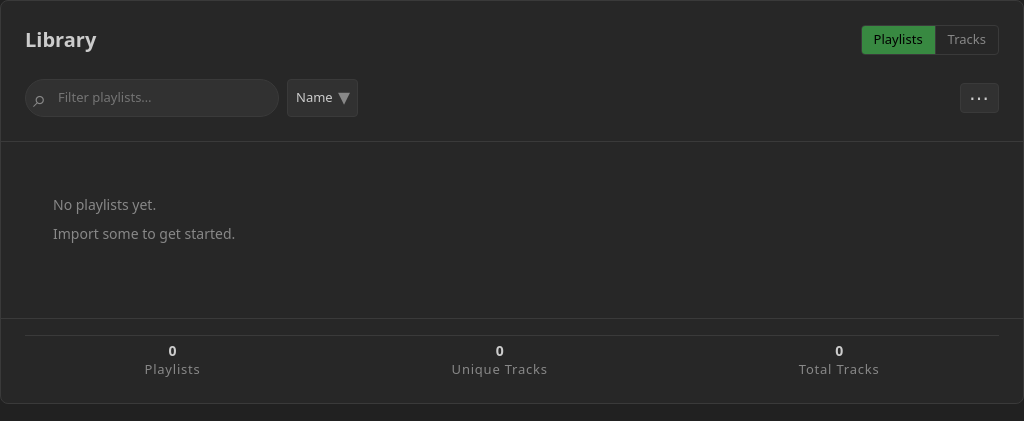
Test: LibraryCard › switches to tracks view when Tracks button is clicked
Click the button "Tracks".
click(966, 40)  # box 935,26 -> 998,54
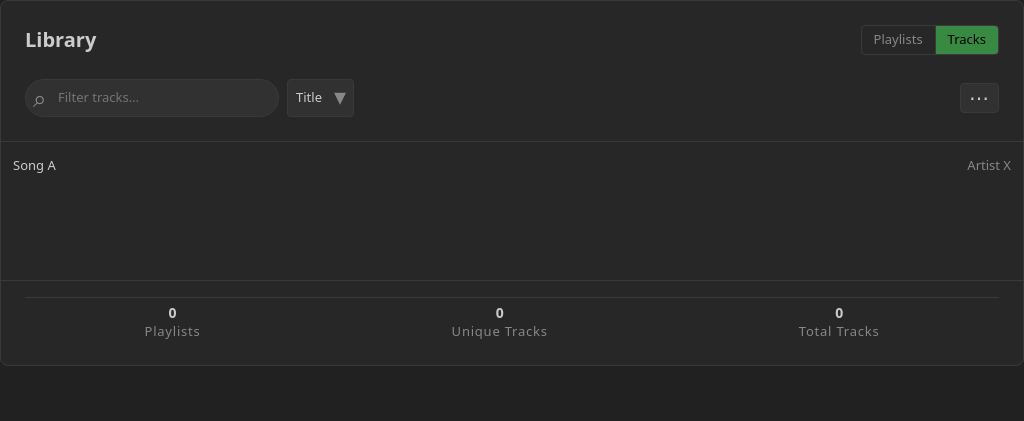
Expected: the text "Song A" is shown, 13,156 -> 56,174
Expected: the text "Artist X" is shown, 967,156 -> 1011,174
